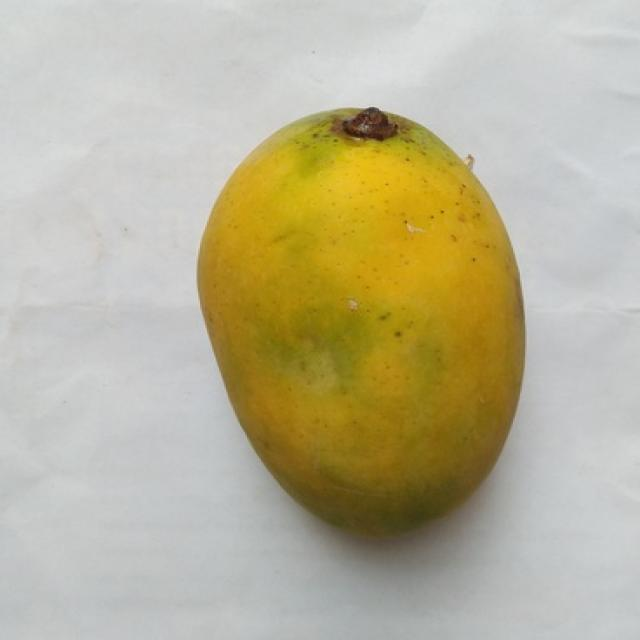Mango: (198, 108, 523, 533)
